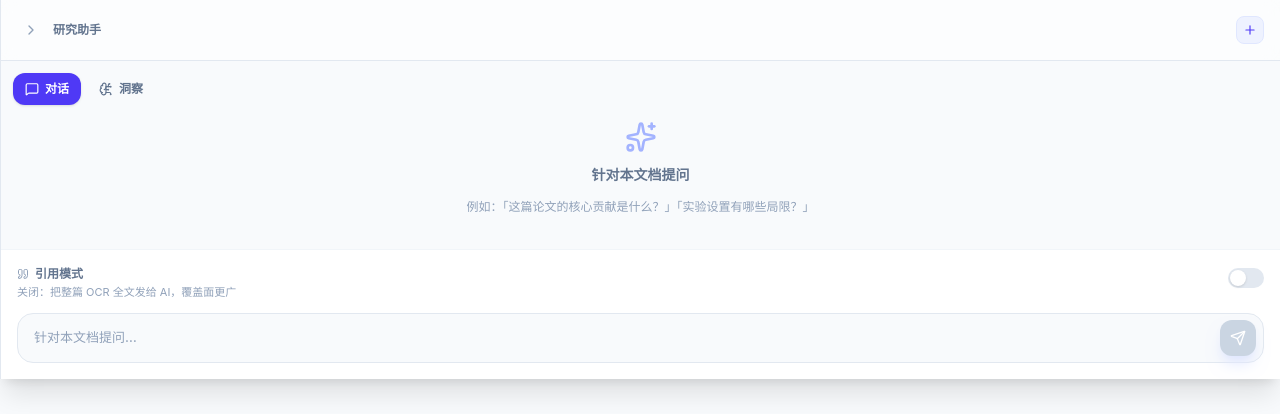
it: ChatSidebar Behavioral Tests › switches between the chat and insight tabs
Expected: the field named "向文档提问" is shown, left=17, top=313, right=1264, bottom=363
Click the button "洞察" at [121, 89], box left=87, top=73, right=155, bottom=105
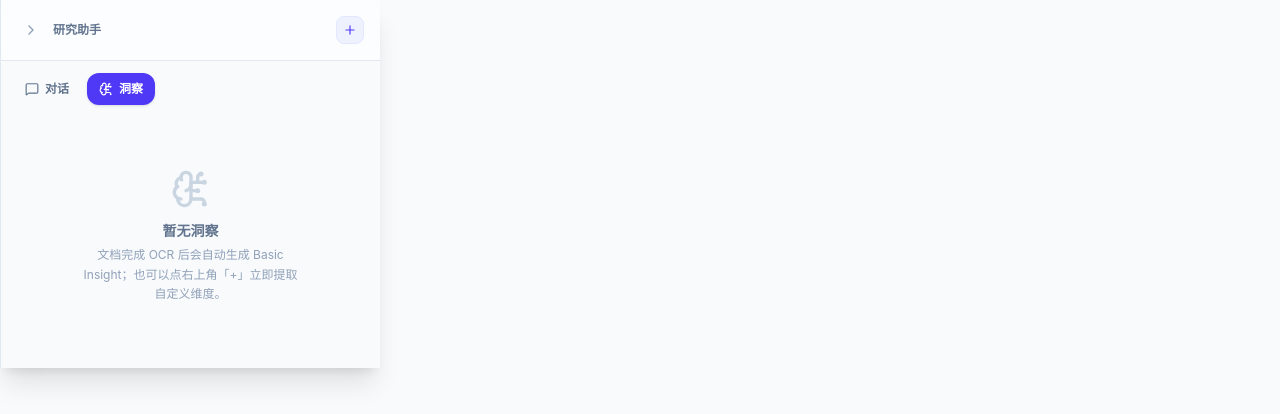
Expected: the text "暂无洞察" is shown, left=162, top=222, right=218, bottom=239
Expected: the field labelled "向文档提问" is gone
